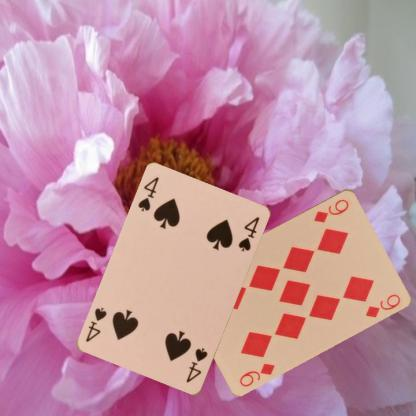4s: (183, 346, 209, 384), (136, 175, 160, 213)
9d: (237, 360, 276, 388), (311, 196, 350, 223)
